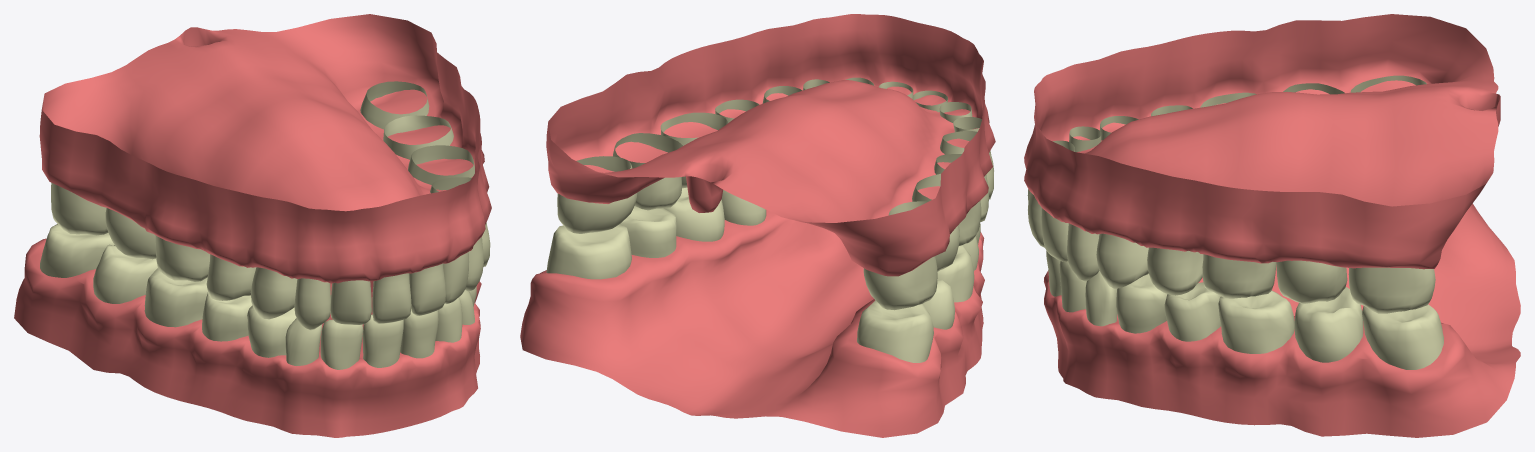
File: teeth.glb
3 views of the same model, side by side, from view 1: azimuth 30°, elevation 25°; view 2: azimuth 150°, elevation 25°; view 3: azimuth 270°, elevation 25° (orthographic). The views are drawn at different scales.
Visible parts, largest first — view 1: Cube.001_Material.001_0, Cube.003_Material.001_0, Cube.002_Material_0, Cube.004_Material_0; view 2: Cube.001_Material.001_0, Cube.003_Material.001_0, Cube.004_Material_0, Cube.002_Material_0; view 3: Cube.001_Material.001_0, Cube.003_Material.001_0, Cube.004_Material_0, Cube.002_Material_0.
Part boxes in pixels (x1,y1,x2,y2): Cube.001_Material.001_0: (39, 14, 491, 283); Cube.003_Material.001_0: (14, 238, 481, 437); Cube.002_Material_0: (51, 81, 490, 330); Cube.004_Material_0: (40, 224, 476, 369); Cube.001_Material.001_0: (546, 14, 995, 276); Cube.003_Material.001_0: (520, 210, 984, 437); Cube.004_Material_0: (546, 187, 980, 362); Cube.002_Material_0: (557, 77, 993, 310); Cube.001_Material.001_0: (1024, 14, 1500, 269); Cube.003_Material.001_0: (1044, 203, 1520, 437); Cube.004_Material_0: (1046, 250, 1443, 369); Cube.002_Material_0: (1027, 75, 1435, 313).
Bounding box in the file's own units: 0.687 × 0.4032 × 0.6941.
